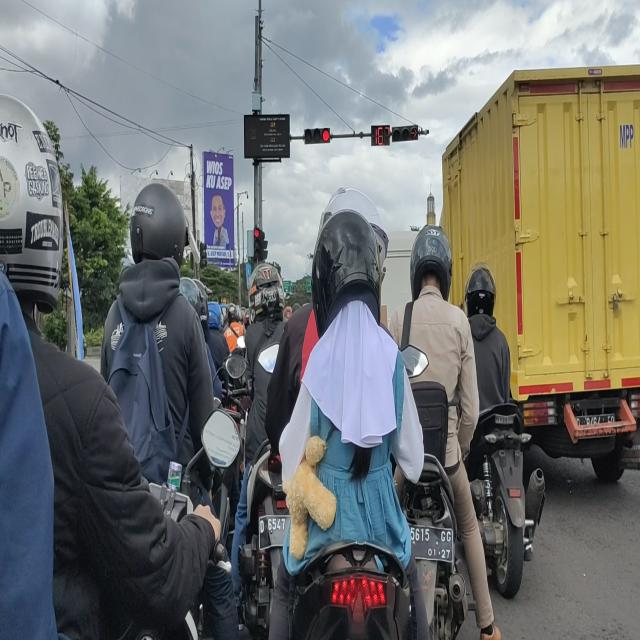helmet: (0, 95, 65, 304), (311, 214, 387, 335), (133, 181, 188, 262), (411, 212, 452, 304), (250, 264, 286, 322), (465, 257, 495, 316), (180, 280, 202, 316), (207, 299, 222, 328), (226, 301, 240, 324)
